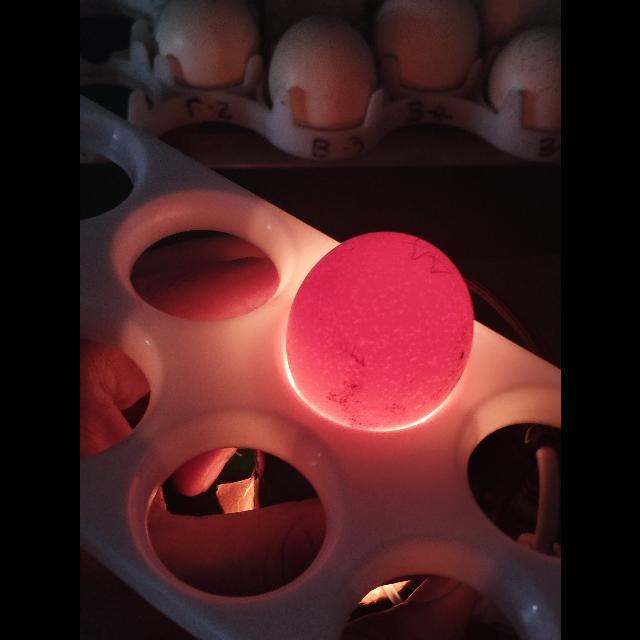Infertile: (287, 230, 473, 432)
